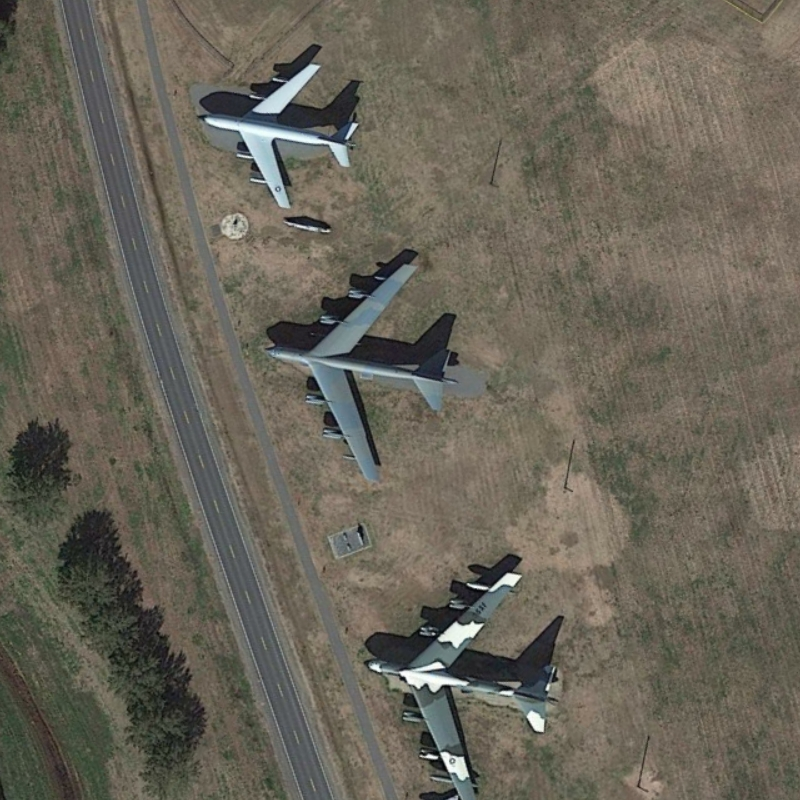A11: (185, 57, 365, 214)
A8: (354, 560, 565, 800), (257, 248, 462, 489)
